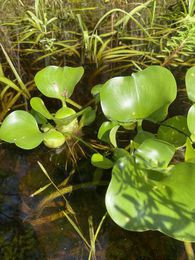water_hyacinth: (2, 41, 195, 244)
